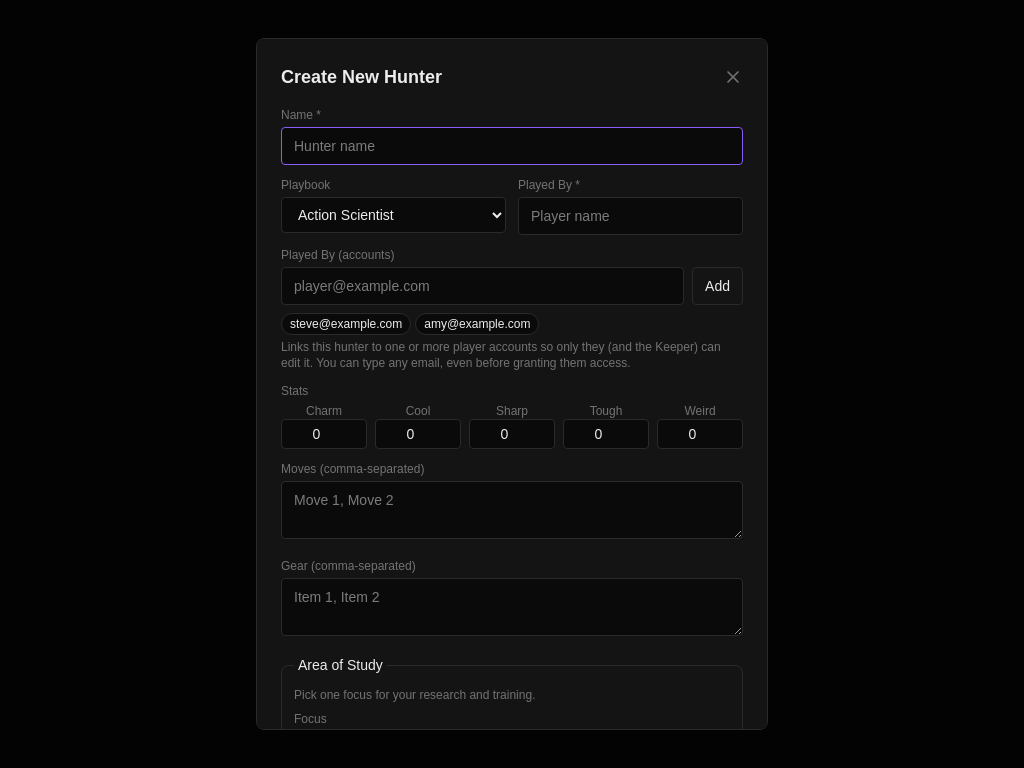
Test: CreateHunterModal account assignment › lets you type an email that hasn't been granted access yet
This screenshot has width=1024, height=768.
Type "new-player@example.com" into the field named "add player email". click: (483, 286)
box: x1=281 y1=267 x2=684 y2=305
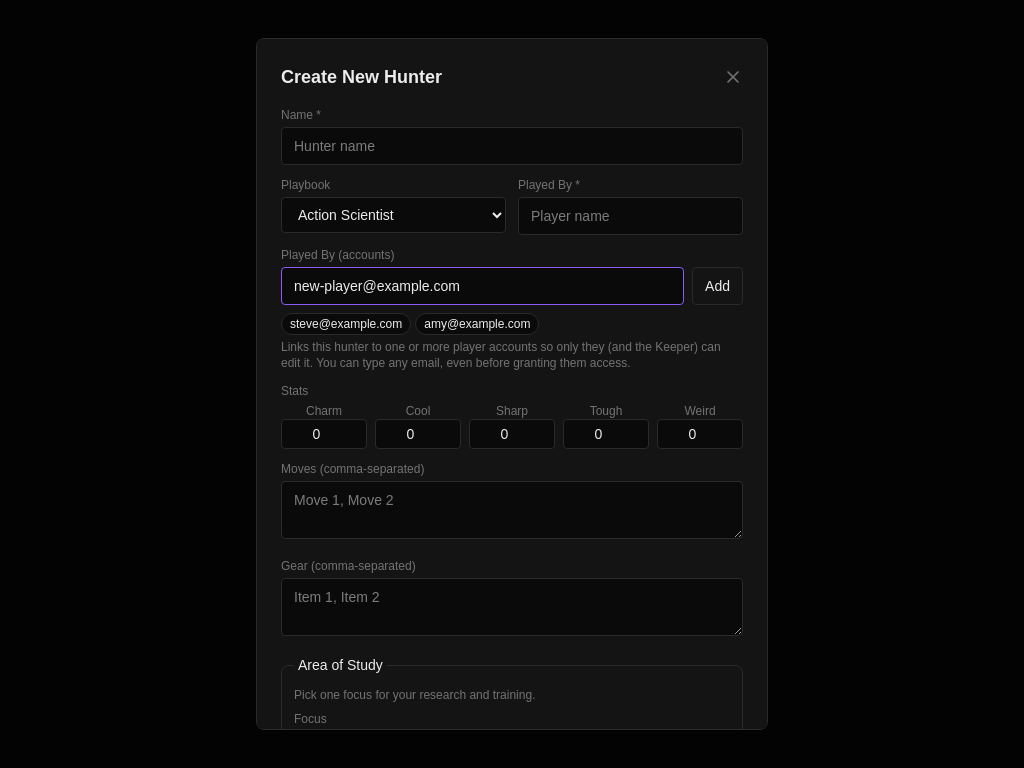
Click the button "Add". click: (718, 286)
box: x1=692 y1=267 x2=743 y2=305
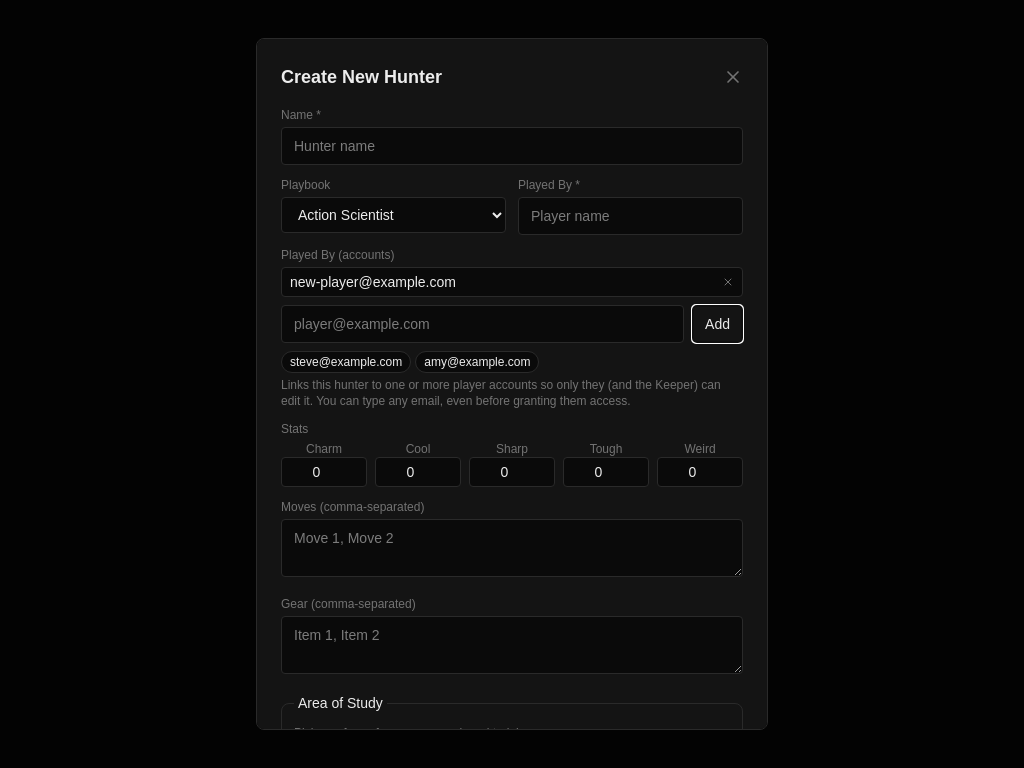
Expected: the text "new-player@example.com" is shown, x1=290 y1=272 x2=456 y2=292
